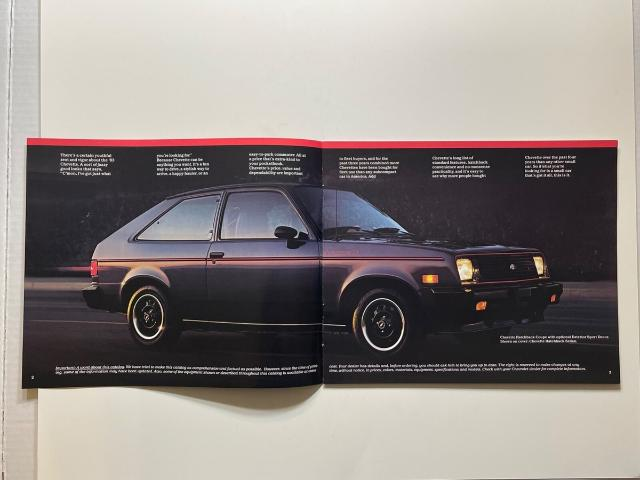chevette-1983: (83, 183, 563, 356)
